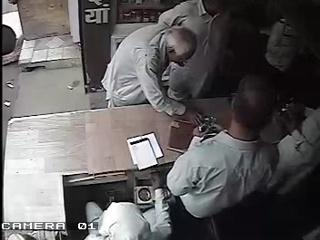Normal: (165, 74, 286, 240), (101, 21, 201, 122), (158, 0, 233, 101)
